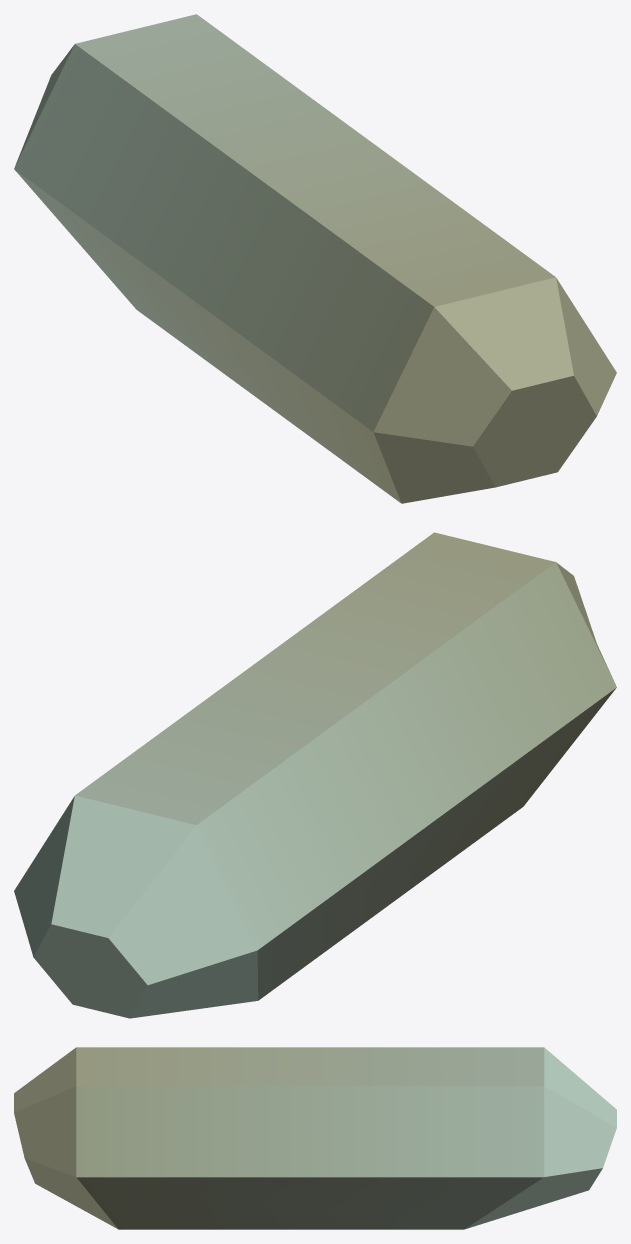
Rendered from ColoredCrystal.007.glb.
3 views of the same model, one above another, from view 1: azimuth 30°, elevation 25°; view 2: azimuth 150°, elevation 25°; view 3: azimuth 270°, elevation 25° (orthographic). The views are drawn at different scales.
Parts seen in each view (by area): view 1: ColoredCrystal.007; view 2: ColoredCrystal.007; view 3: ColoredCrystal.007.
Part boxes in pixels (left/top/right/bottom): ColoredCrystal.007: left=14, top=14, right=616, bottom=503; ColoredCrystal.007: left=14, top=532, right=616, bottom=1018; ColoredCrystal.007: left=14, top=1047, right=616, bottom=1229.
Bounding box in the file's own units: 150 × 130 × 493.
